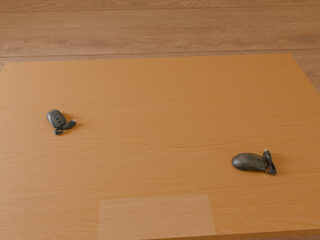mouse: (232, 149, 276, 175), (47, 110, 76, 135)
